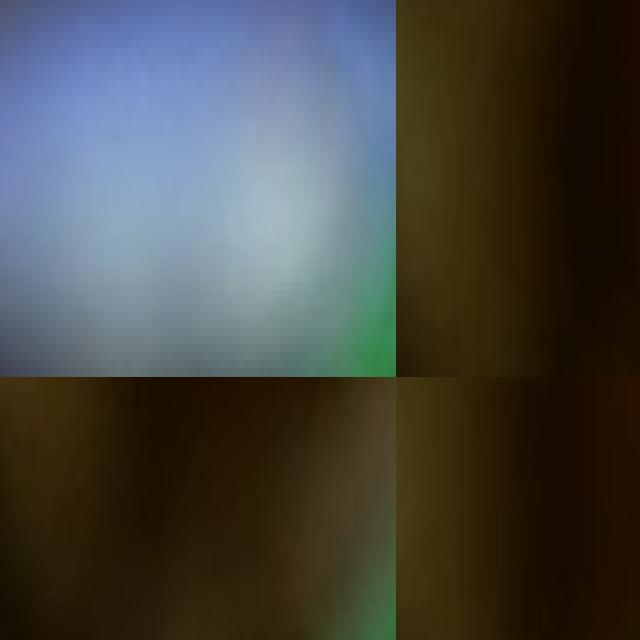fish: (0, 0, 396, 377), (396, 0, 640, 172)
